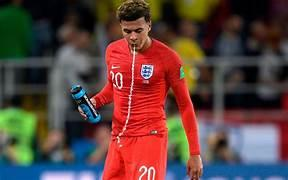Spitting: (98, 1, 166, 71)
